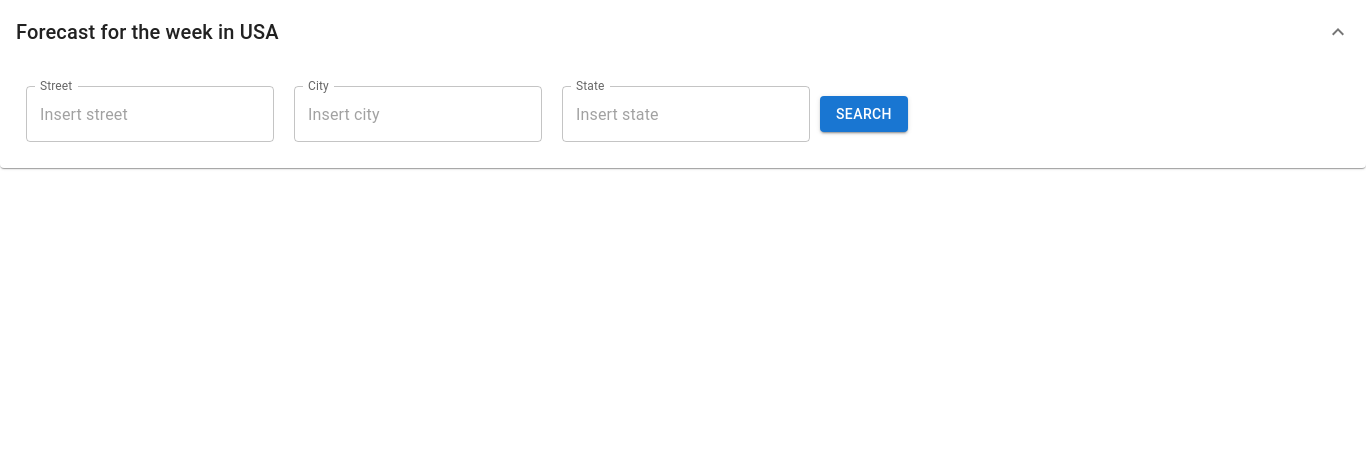
it: Weather forecast: Render › input validation
Expected: the heading "Forecast for the week in USA" is shown, x1=16 y1=16 x2=279 y2=48
Type "121 S fremont ave" into the field with placeholder "Insert street" at (150, 114), box x1=26 y1=86 x2=274 y2=142
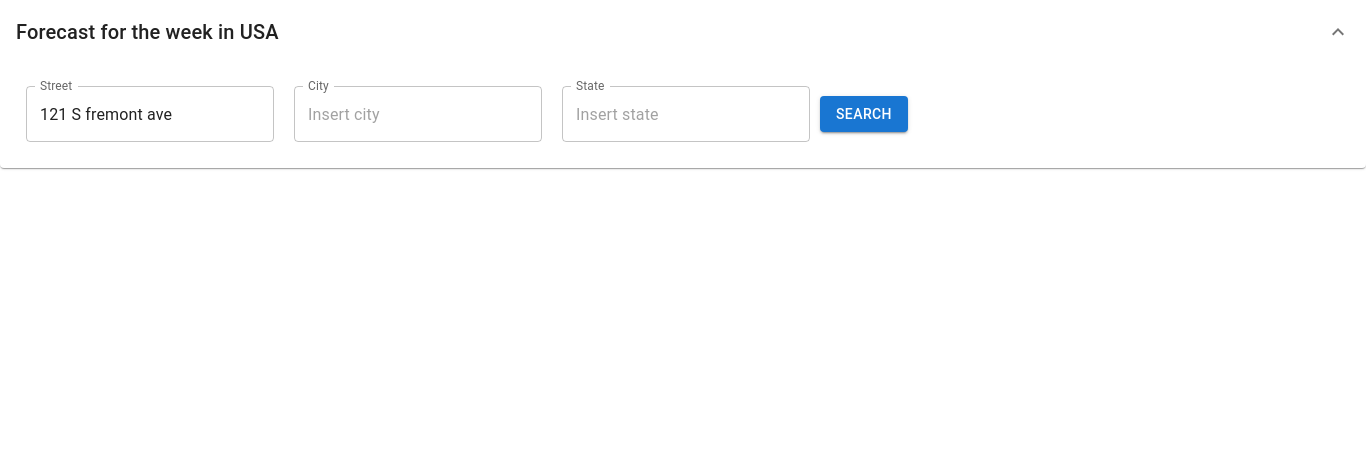
Type "baltimore" into the field with placeholder "Insert city" at (418, 114), box x1=294 y1=86 x2=542 y2=142
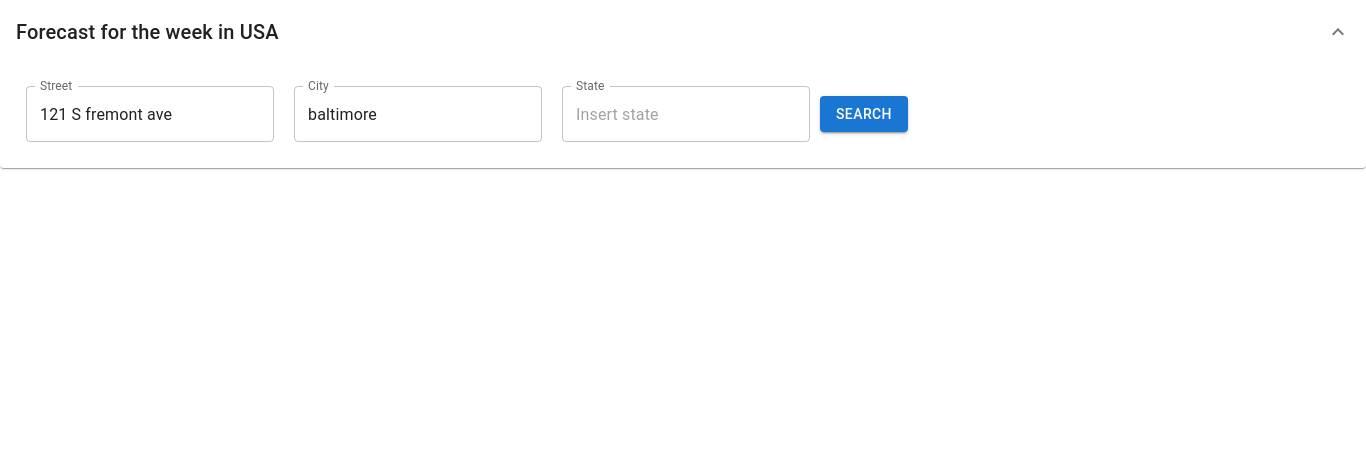
Clear the field with placeholder "Insert state" at (686, 114), box x1=562 y1=86 x2=810 y2=142
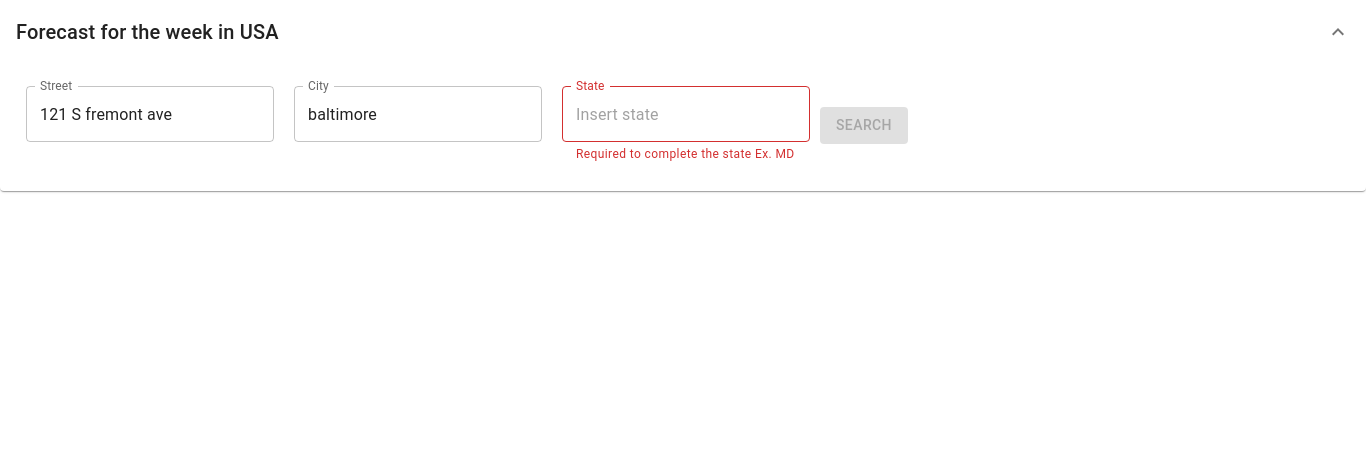
Expected: the text "Required to complete the state Ex. MD" is shown, x1=576 y1=145 x2=796 y2=165
Type "asdfg" into the field with placeholder "Insert state" at (686, 114), box x1=562 y1=86 x2=810 y2=142
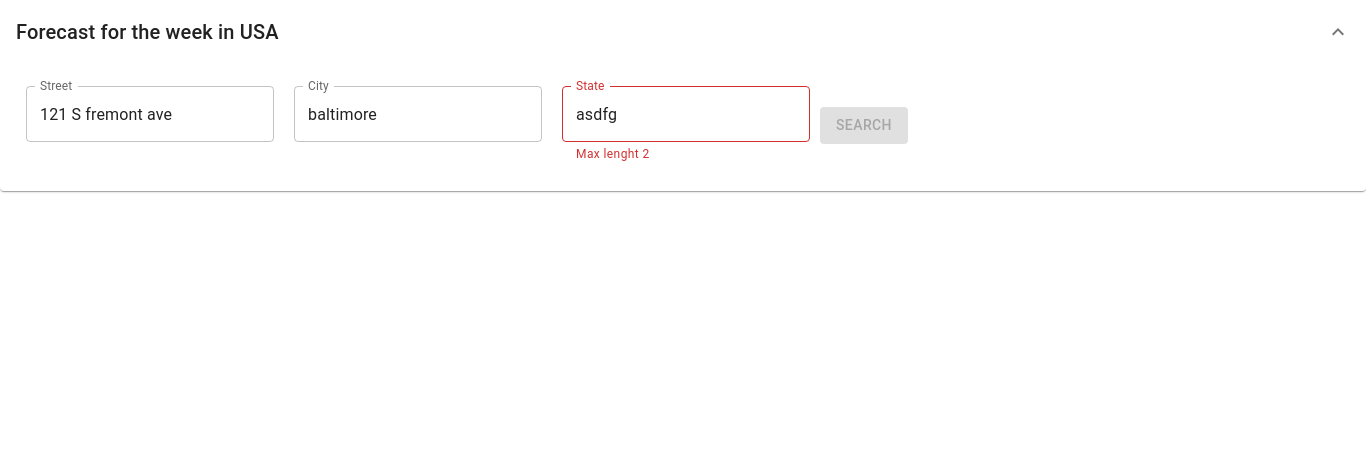
Expected: the text "Max lenght 2" is shown, x1=576 y1=147 x2=650 y2=161
Replace the text in the field with placeholder "Insert state" with "MD" at (686, 114), box x1=562 y1=86 x2=810 y2=142
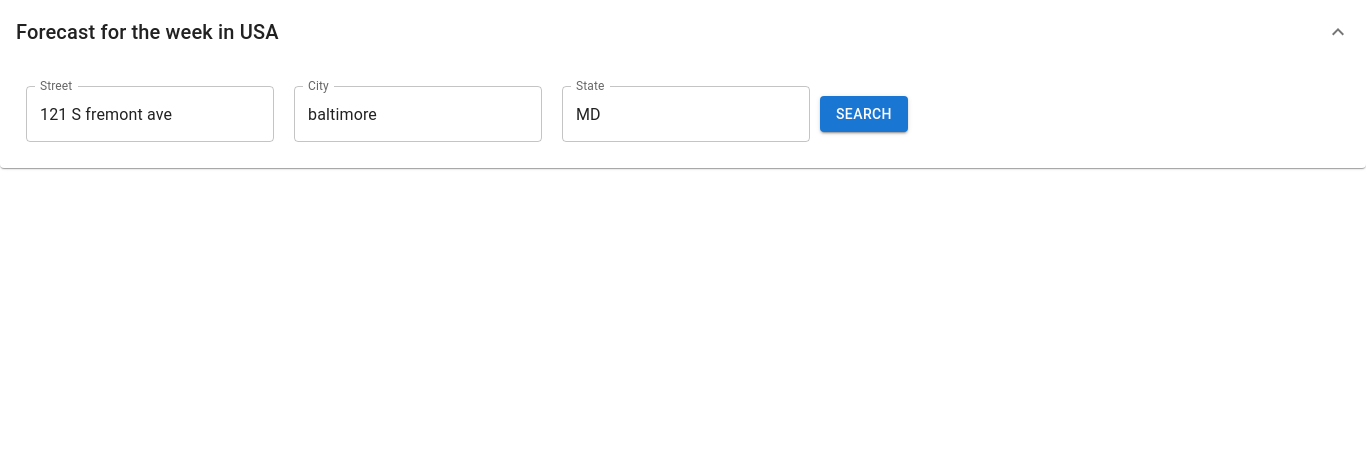
Submit the form from the button "Search", box x1=820 y1=96 x2=908 y2=132
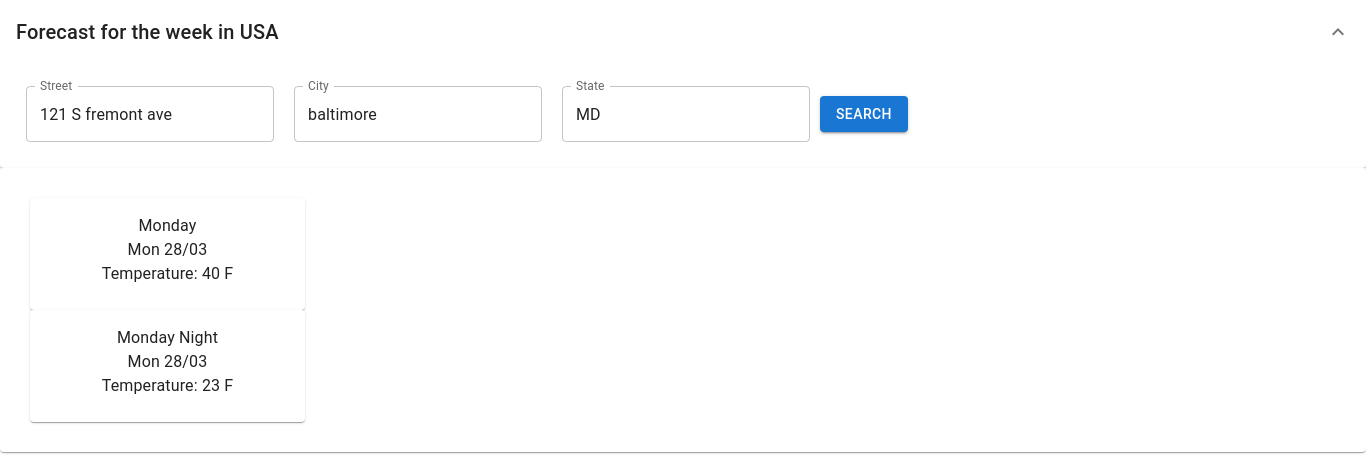
Expected: the text "Monday" is shown, x1=138 y1=216 x2=196 y2=235
Expected: the text "Mon 28/03" is shown 2 times, x1=128 y1=240 x2=207 y2=259; x1=128 y1=352 x2=207 y2=371
Expected: the text "Temperature: 40 F" is shown, x1=102 y1=264 x2=233 y2=283
